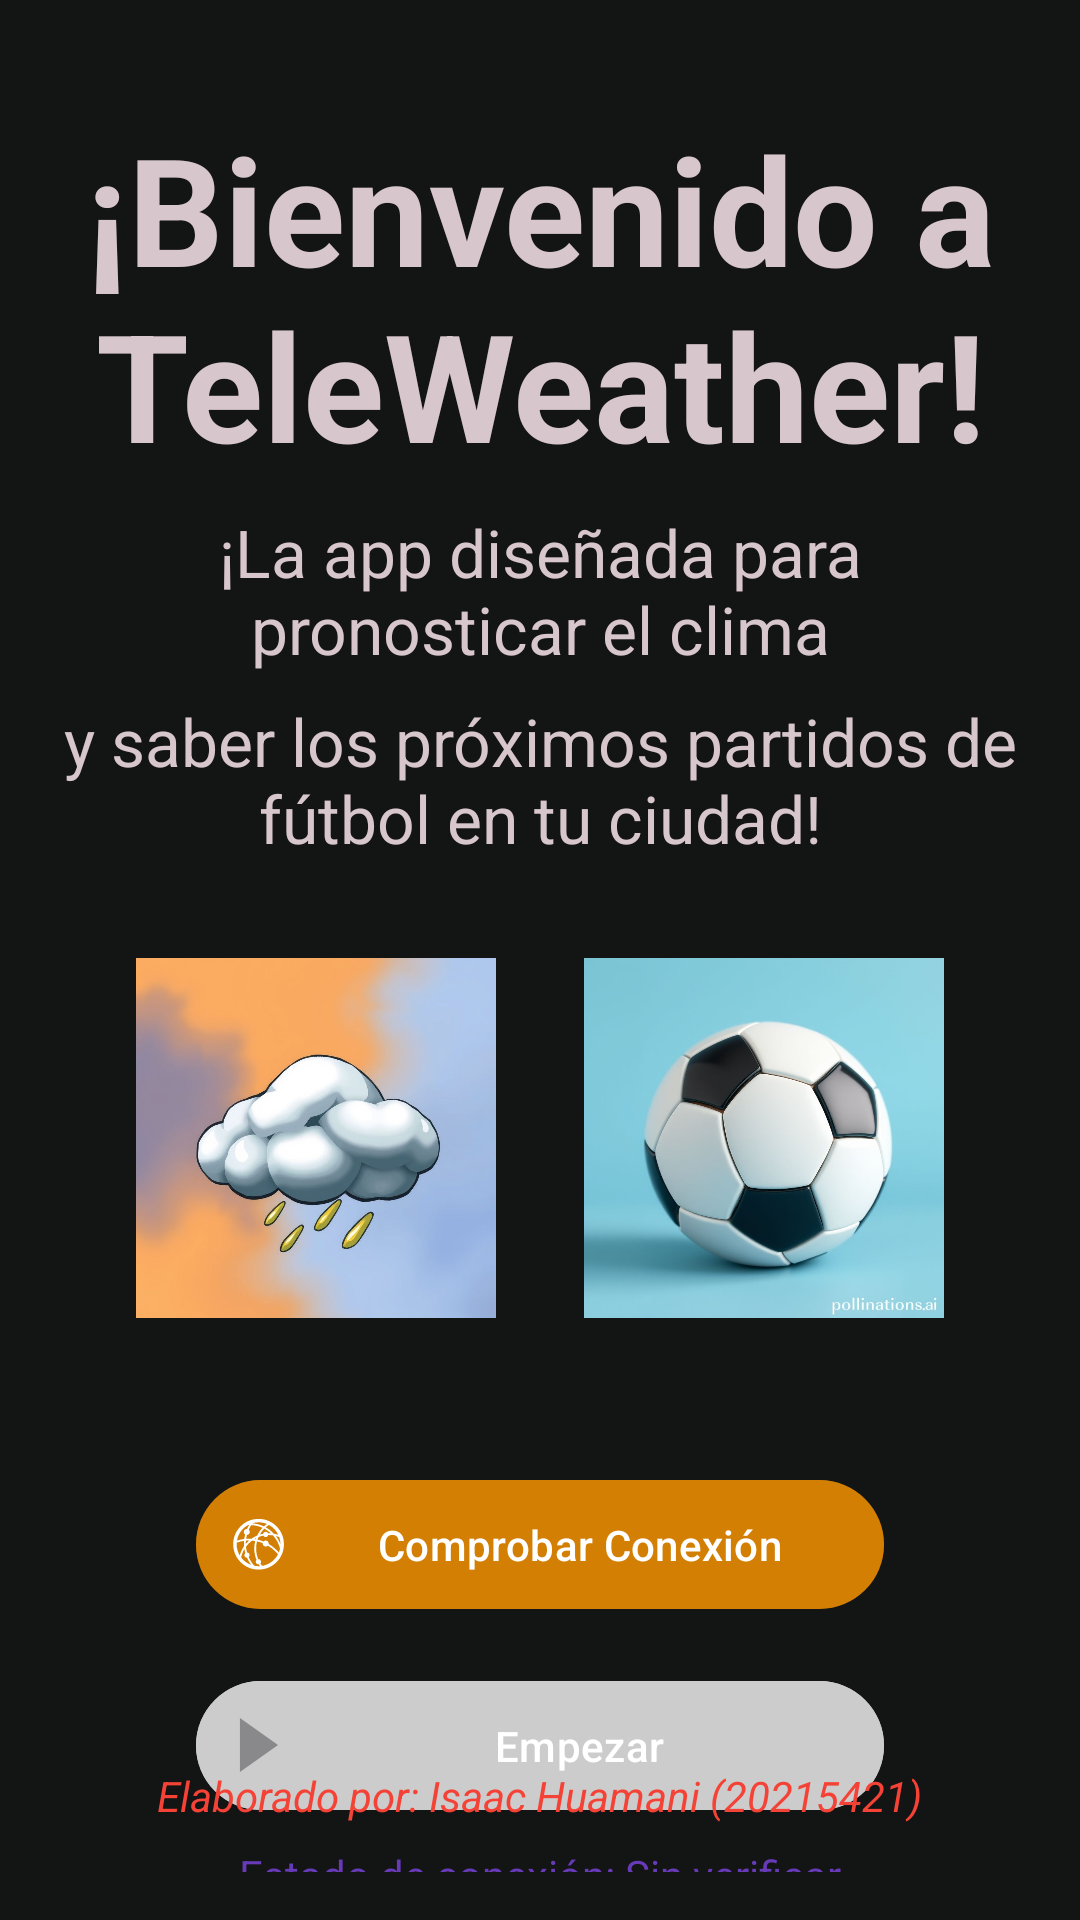

Icons on this 1080w x 1920h Android screen, each with the point to tap as point (x, y):
Imagen de clima: point (316, 1138)
Imagen de fútbol: point (764, 1138)
